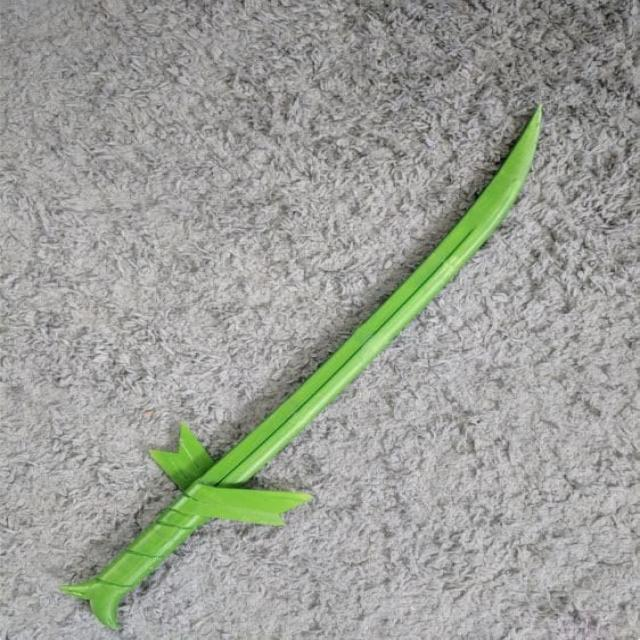sword: (56, 104, 535, 634)
